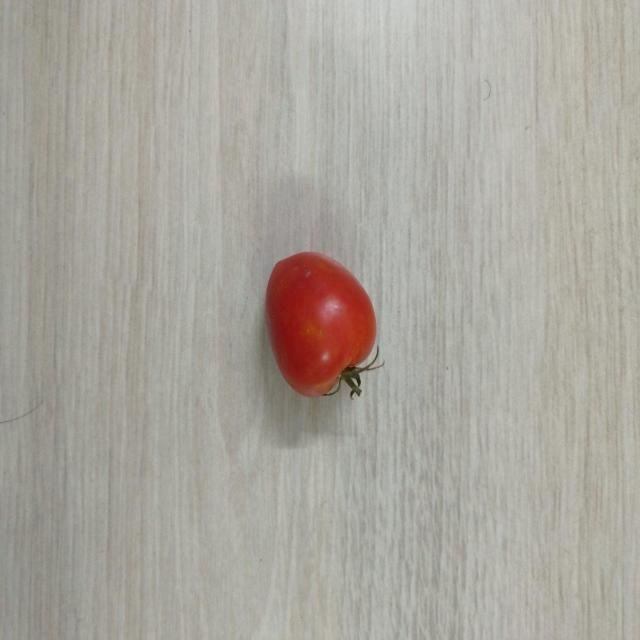Tomato: (264, 248, 378, 404)
